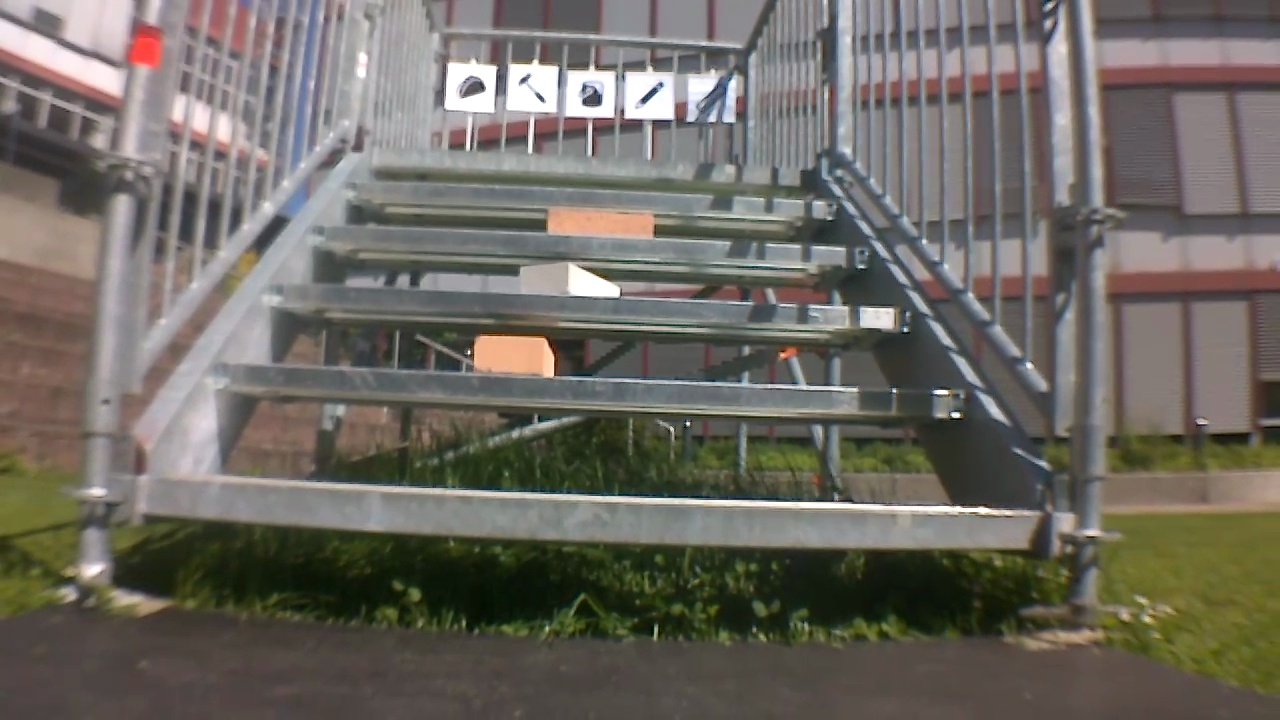brick: (519, 261, 624, 299), (467, 335, 557, 374), (549, 210, 656, 235)
edge: (215, 370, 984, 419), (136, 506, 1059, 536), (261, 289, 913, 325), (339, 179, 847, 211), (295, 234, 880, 255), (356, 149, 824, 174)
stairs: (72, 0, 1100, 617)
steps: (101, 160, 1070, 539)
